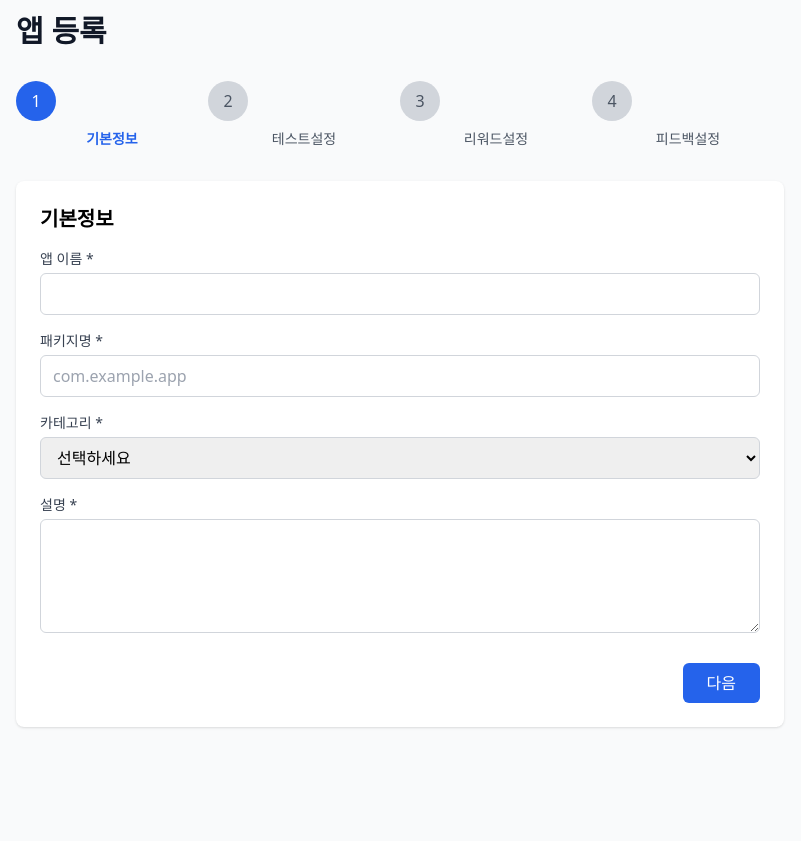
Test: P3-S7: App Register Page (4-Step Wizard) › 🔴 RED: Step 1 - 기본정보 Form Fields › should validate required fields before moving to step 2
Click the button "다음" at {"x": 721, "y": 683}, box [682, 663, 760, 703]
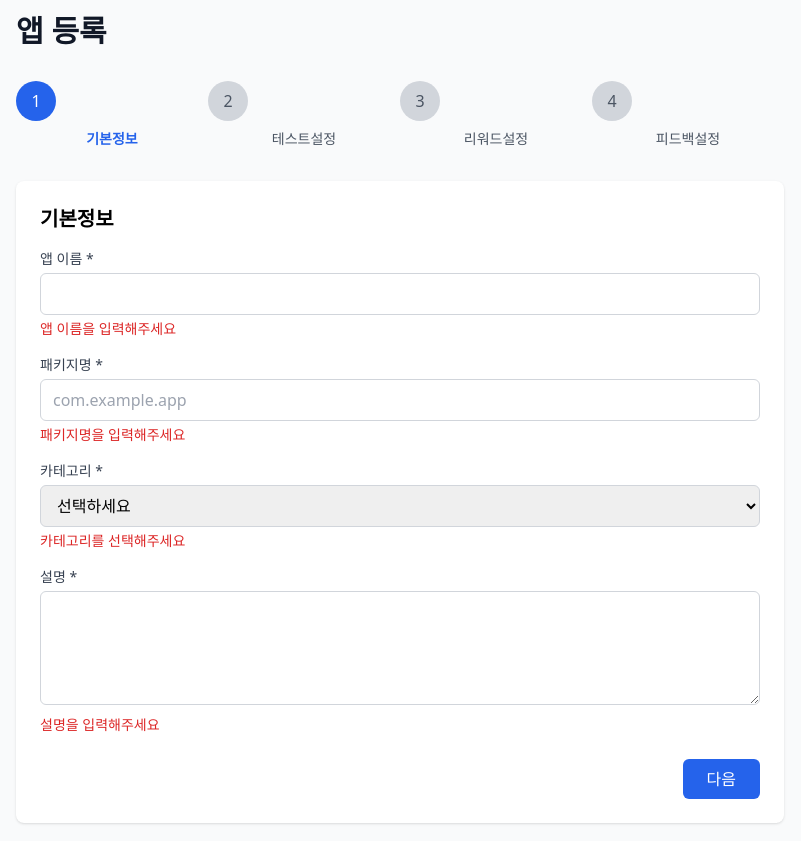
Check: the text "앱 이름을 입력해주세요" is shown, box [40, 319, 176, 338]
